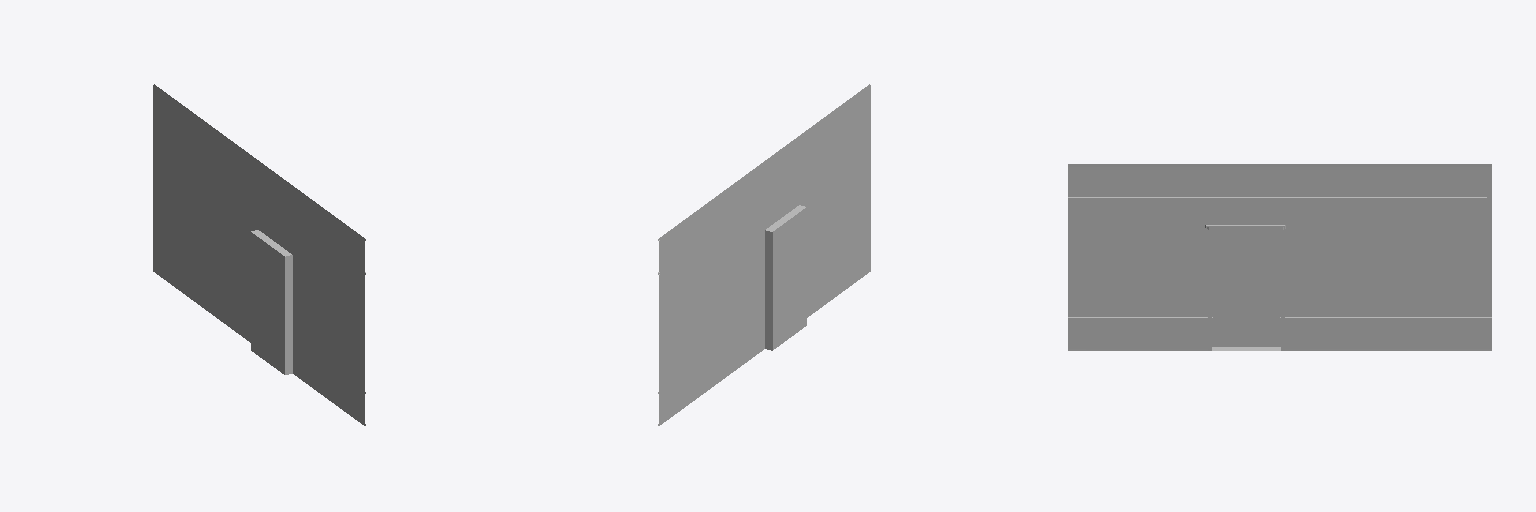
File: wall_04.obj
3 views of the same model, side by side, from view 1: azimuth 30°, elevation 25°; view 2: azimuth 150°, elevation 25°; view 3: azimuth 270°, elevation 25° (orthographic).
Parts seen in each view (by area): view 1: wall_04_lft; view 2: wall_04_lft; view 3: wall_04_lft.
Part boxes in pixels (x1,y1,x2,y2): wall_04_lft: (153,84,365,425); wall_04_lft: (658,84,870,425); wall_04_lft: (1068,164,1491,350).
Bounding box in the file's own units: 12.94 × 238 × 488.